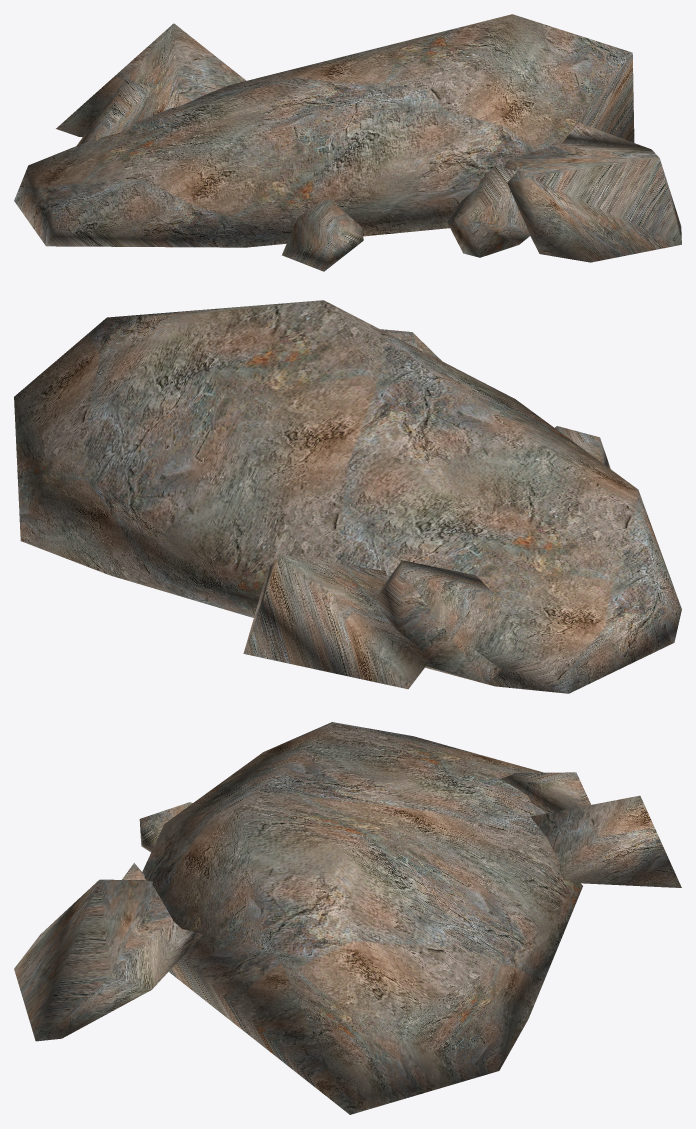
Rendered from rock_forestrockcluster_l3.fbx.
The picture shows the model from 3 angles, top to bottom: view 1: azimuth 30°, elevation 25°; view 2: azimuth 150°, elevation 25°; view 3: azimuth 270°, elevation 25°; orthographic projection. The views are drawn at different scales.
Parts seen in each view (by area): view 1: mesh_node; view 2: mesh_node; view 3: mesh_node.
Part boxes in pixels (x1,y1,x2,y2): mesh_node: (14, 14, 681, 271); mesh_node: (14, 300, 681, 693); mesh_node: (14, 722, 681, 1114).
Bounding box in the file's own units: 4.55 × 1.29 × 3.99.
